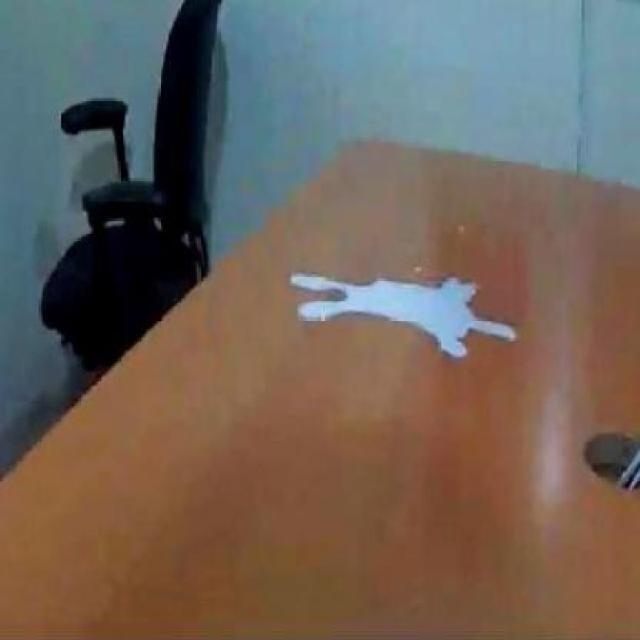spillage: (290, 274, 517, 361)
